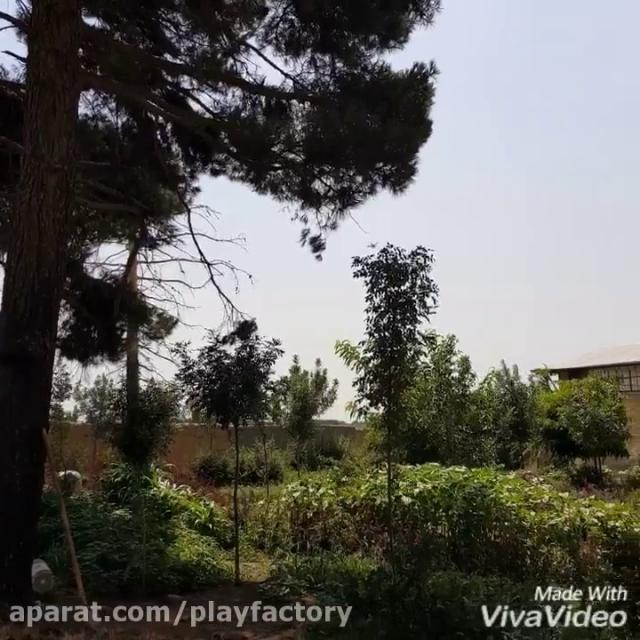drone: (362, 233, 384, 251)
